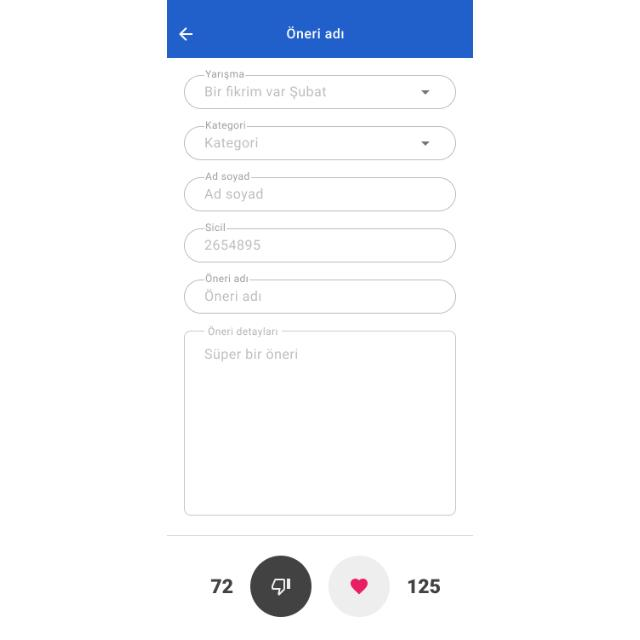QLabel: (286, 25, 346, 41), (410, 578, 442, 594), (210, 580, 234, 594)
VAppBar: (167, 0, 473, 58)
VCombobox: (184, 121, 458, 161), (184, 70, 458, 110)
VFooter: (168, 536, 472, 638)
VIcon: (176, 26, 194, 42)
VImg: (250, 554, 314, 616), (330, 556, 390, 616)
VTextField: (185, 222, 458, 264), (184, 172, 458, 212), (184, 274, 458, 314)
VTextarea: (183, 328, 459, 518)
